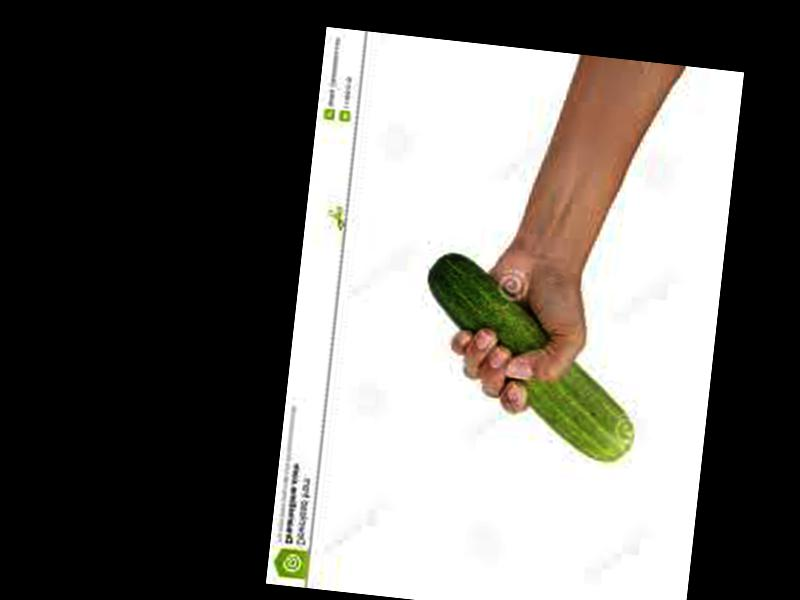Cucumber: (410, 246, 649, 463)
